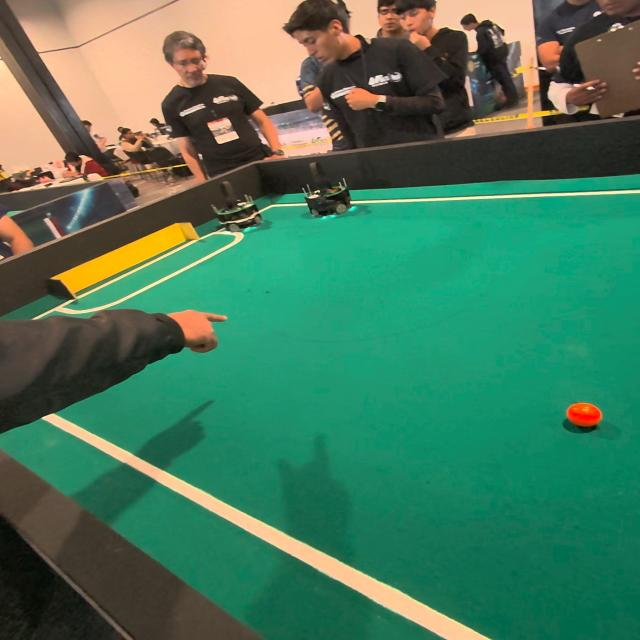Robot: (297, 160, 356, 224), (203, 179, 263, 236)
pelota: (567, 401, 602, 431)
